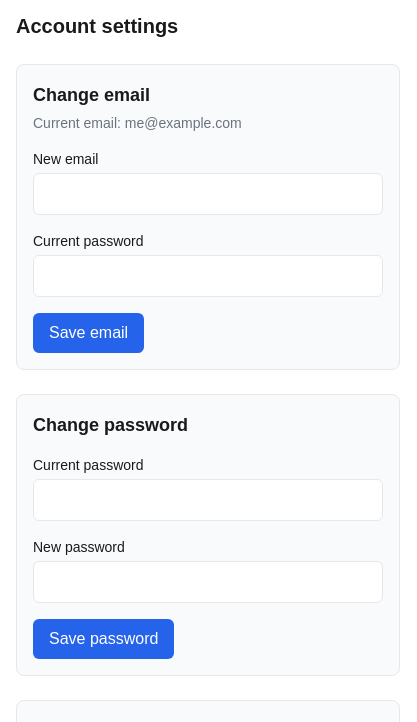
Test: SettingsPage › shows the server error when changing email fails
Type "new@example.com" into the field labelled "New email" at (208, 194), box [33,173,383,215]
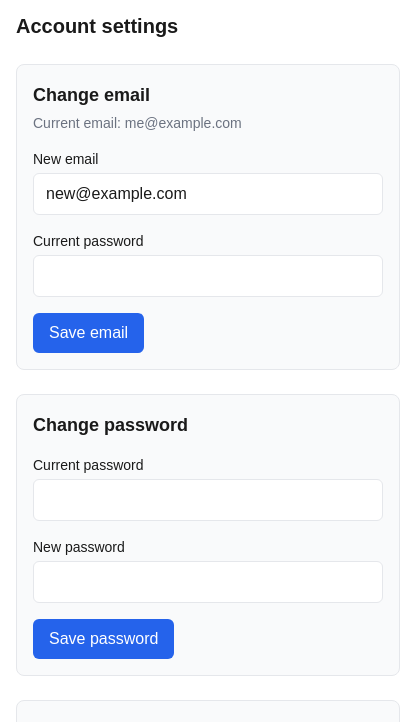
Type "wrong-password" into the password field with id "email-change-password" at (208, 276), box [33,255,383,297]
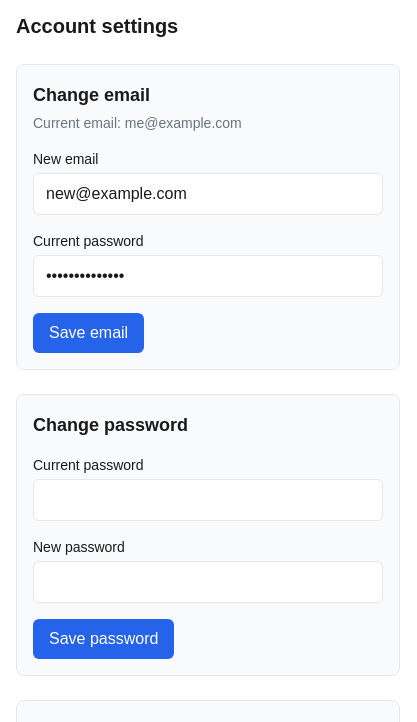
Click the button "Save email" at (89, 333), box [33,313,144,353]
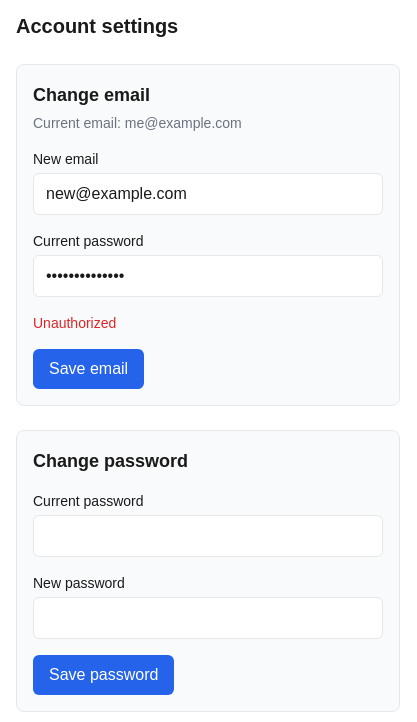
Now the text "Unauthorized" is shown, box [33,315,116,331]
